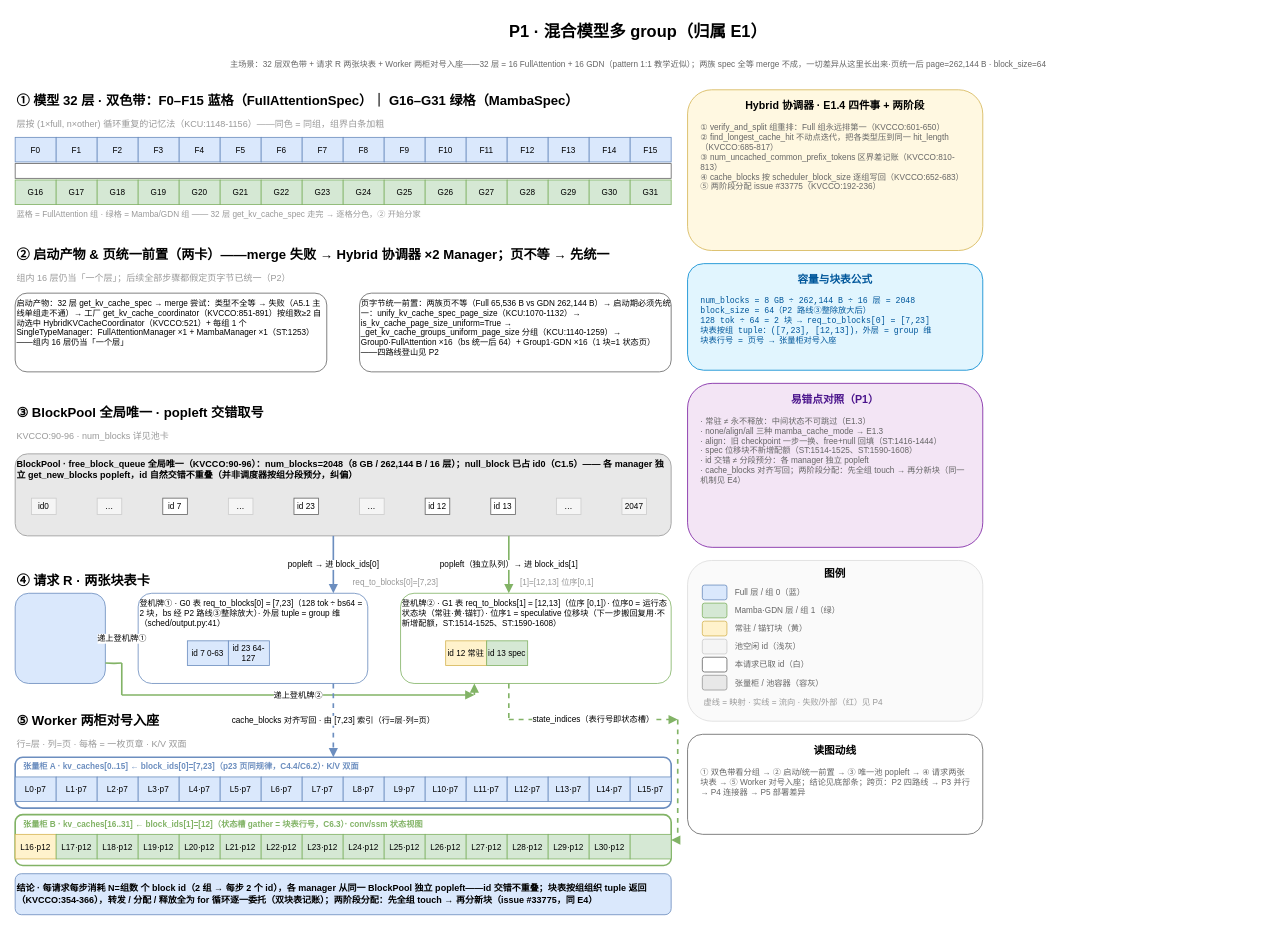
Some shapes in this 1275 by 929 pixel diagram are drawn without their labels. Here are the shapes that lost their labels. From the top down, the centre of each, then its label:
At point (342, 170): "组界：两族 spec 不全等 → merge 失败 → 分 2 组（A5.1）".
At point (59, 637): "请求 R prompt=128 本地命中 32 连接器命中 96".
At point (650, 846): "L31·p12".
